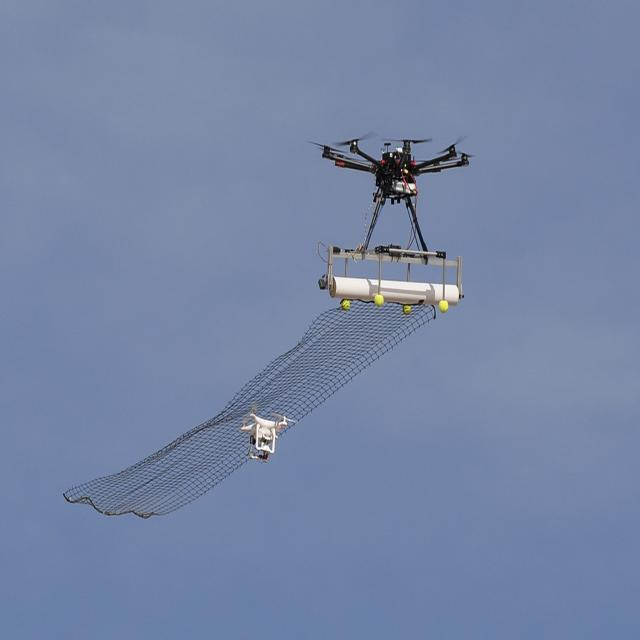drone: (310, 131, 477, 259), (234, 399, 300, 464)
